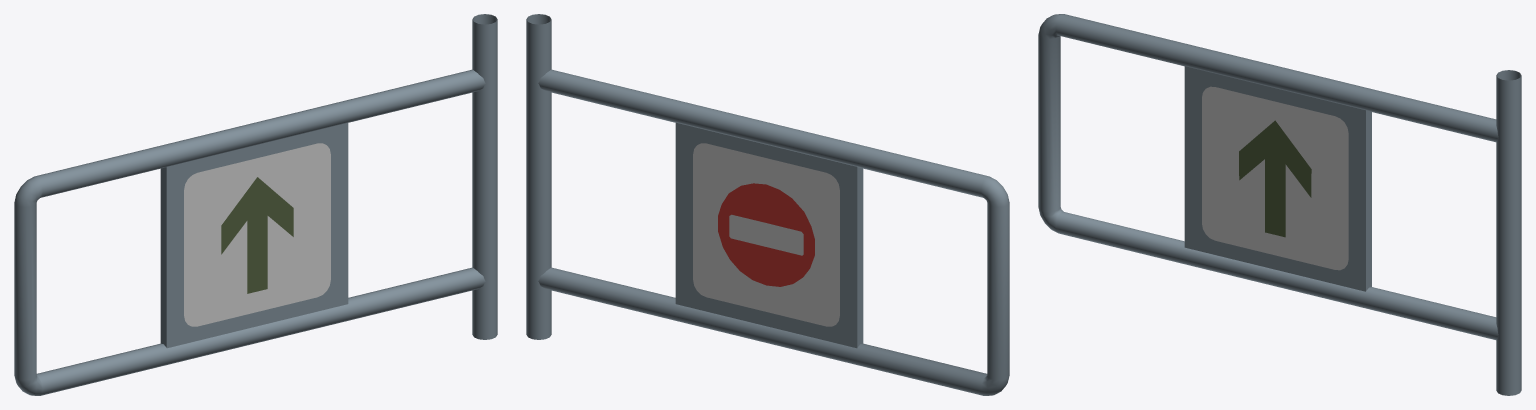
The model's file is SM_Props_Supermarket_01_Door_R.fbx.
3 renders of one model, left to right at view 1: azimuth 30°, elevation 25°; view 2: azimuth 150°, elevation 25°; view 3: azimuth 330°, elevation 25°, orthographic.
Parts seen in each view (by area): view 1: SM_Props_Supermarket_01_Door_R; view 2: SM_Props_Supermarket_01_Door_R; view 3: SM_Props_Supermarket_01_Door_R.
Boxes of the visible parts, box(x1,y1,x2,y2) form: SM_Props_Supermarket_01_Door_R: box(14, 14, 497, 395); SM_Props_Supermarket_01_Door_R: box(526, 14, 1009, 395); SM_Props_Supermarket_01_Door_R: box(1038, 14, 1521, 395).
Bounding box in the file's own units: 0.4732 × 0.2971 × 0.0215.
